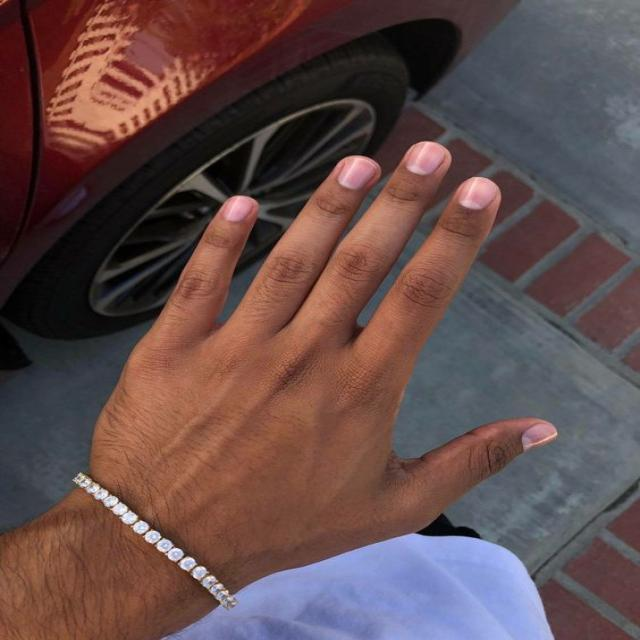Fingernail: (404, 142, 445, 176), (337, 158, 377, 191), (459, 180, 497, 210), (522, 424, 558, 453), (222, 197, 253, 221)
